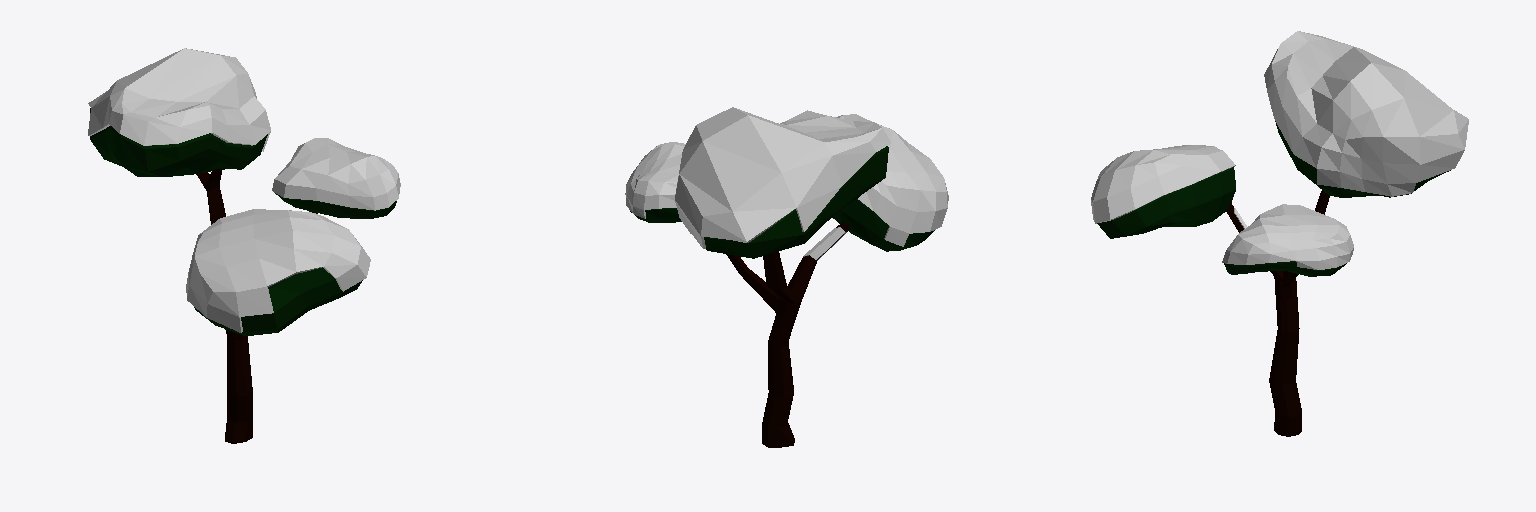
File: snowTree4.obj
3 renders of one model, left to right at view 1: azimuth 30°, elevation 25°; view 2: azimuth 150°, elevation 25°; view 3: azimuth 270°, elevation 25°, orthographic.
Parts seen in each view (by area): view 1: Cube.036, Cube.035, Cube.034, Cube.029, Cube.033, Cylinder.003, Cube.030; view 2: Cube.035, Cylinder.003, Cube.036, Cube.029, Cube.034, Cube.033; view 3: Cube.035, Cube.036, Cube.034, Cylinder.003, Cube.033, Cube.029, Cube.030.
Part boxes in pixels (bbox=[...]): Cube.036: bbox=[186, 209, 370, 332]; Cube.035: bbox=[88, 48, 270, 151]; Cube.034: bbox=[272, 138, 400, 210]; Cube.029: bbox=[90, 108, 267, 176]; Cube.033: bbox=[194, 267, 362, 335]; Cylinder.003: bbox=[196, 169, 317, 443]; Cube.030: bbox=[275, 193, 396, 218]; Cube.035: bbox=[675, 107, 890, 248]; Cylinder.003: bbox=[726, 223, 850, 447]; Cube.036: bbox=[837, 114, 948, 246]; Cube.029: bbox=[704, 146, 888, 258]; Cube.034: bbox=[625, 142, 685, 218]; Cube.033: bbox=[832, 199, 934, 251]; Cube.035: bbox=[1264, 31, 1468, 196]; Cube.036: bbox=[1091, 145, 1235, 223]; Cube.034: bbox=[1222, 204, 1353, 269]; Cylinder.003: bbox=[1226, 190, 1329, 436]; Cube.033: bbox=[1097, 167, 1235, 238]; Cube.029: bbox=[1275, 121, 1450, 197]; Cube.030: bbox=[1224, 261, 1346, 276].
Bounding box in the file's own units: 22.26 × 29.54 × 28.05.